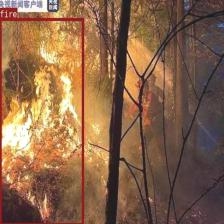fire: (0, 17, 83, 223)
